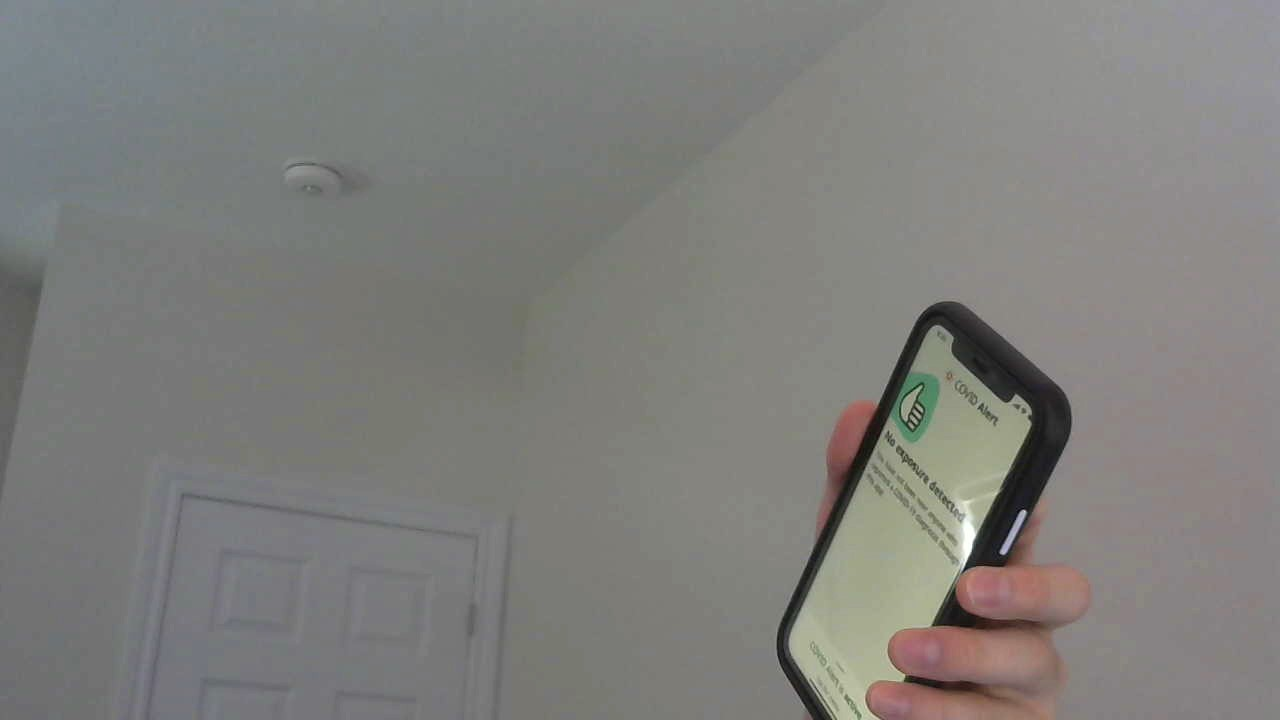Safe: (879, 366, 1006, 528)
